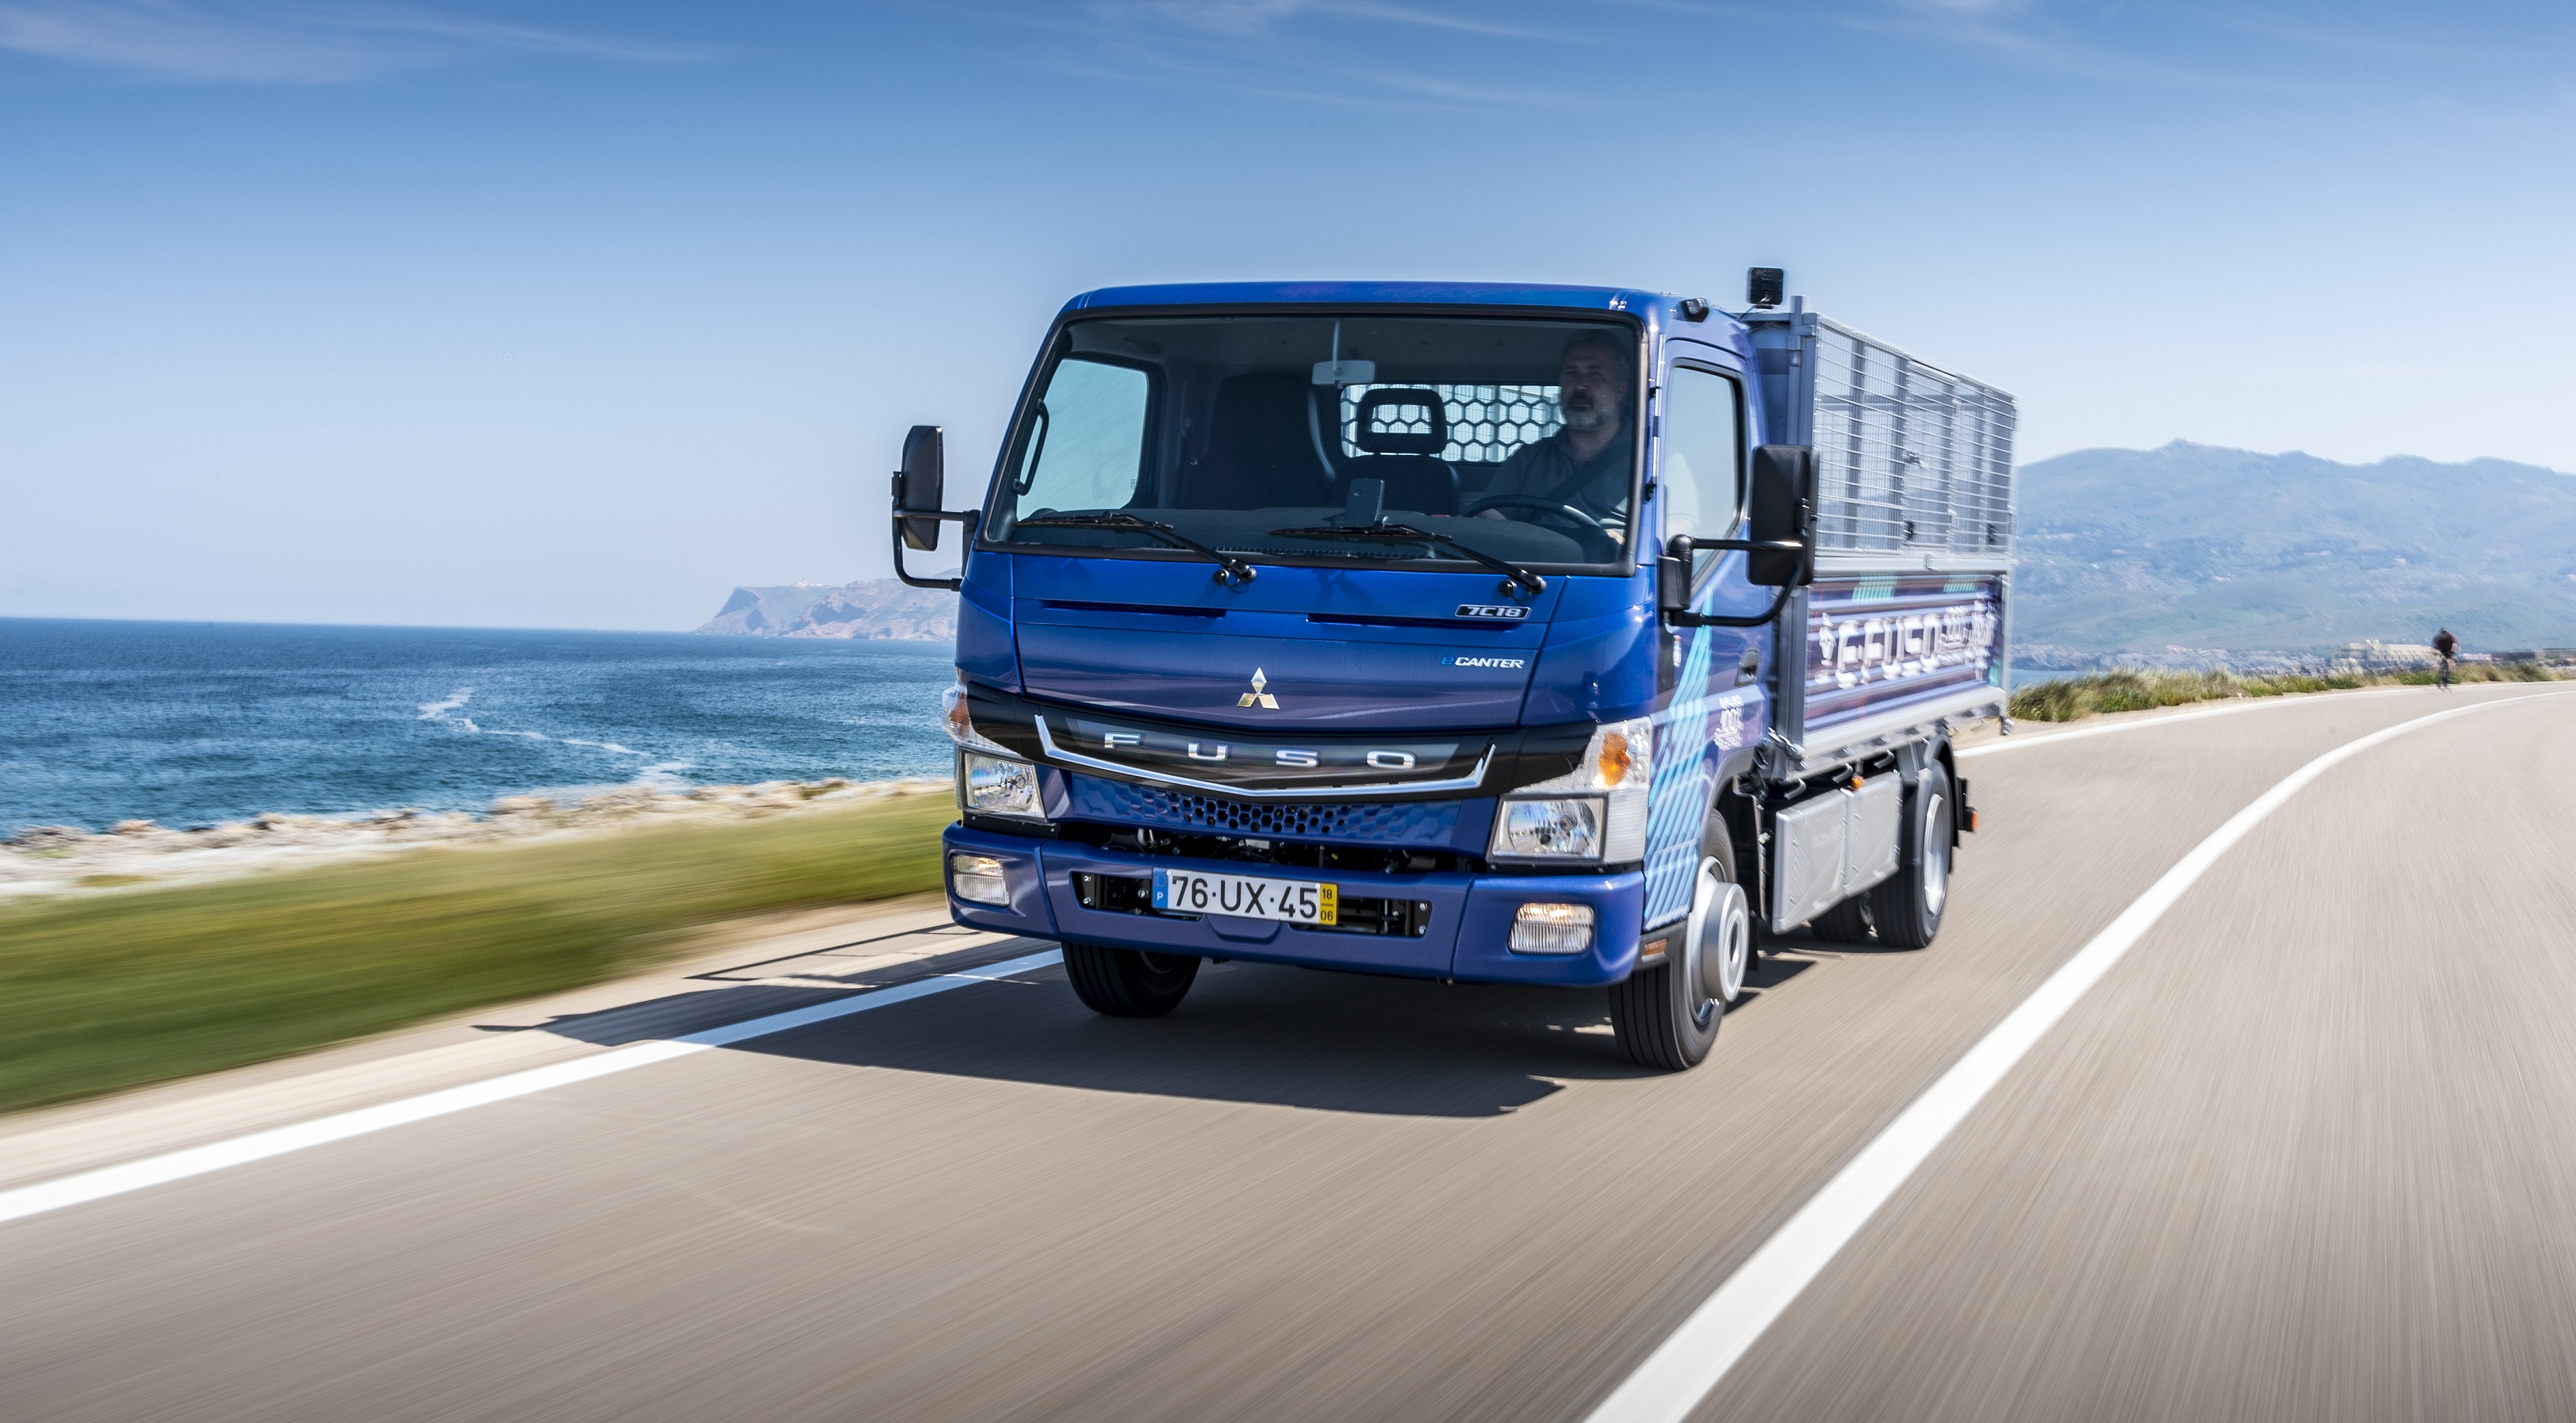truck: (721, 209, 2275, 1011)
